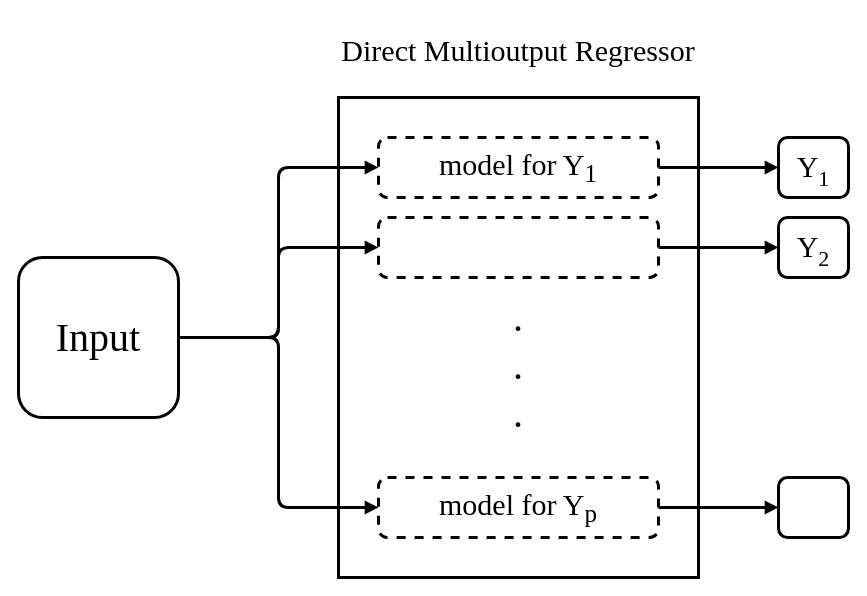
The diagram is 867 pixels wide and 596 high, and some of its shapes have lost their labels. Here are the shapes that lost their labels. From the top down, the centre of each, then its label:
At pixel 518 247: "model for Y 2".
At pixel 813 507: "Y p".
